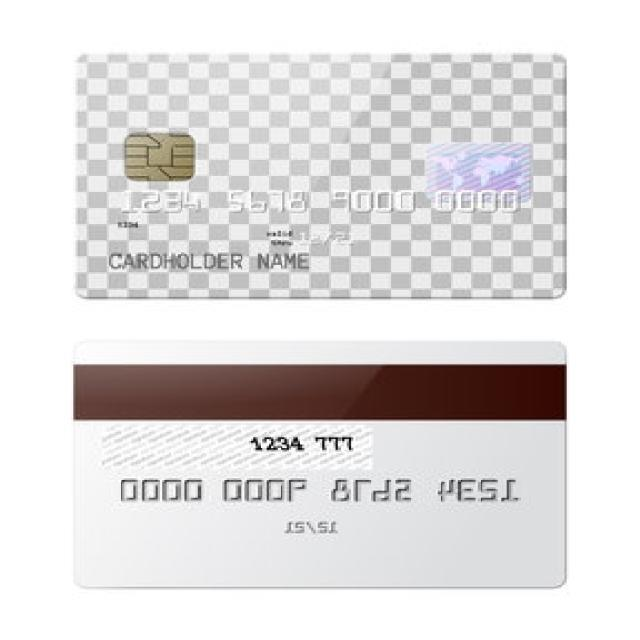payment_card: (72, 340, 567, 589), (73, 50, 567, 299)
